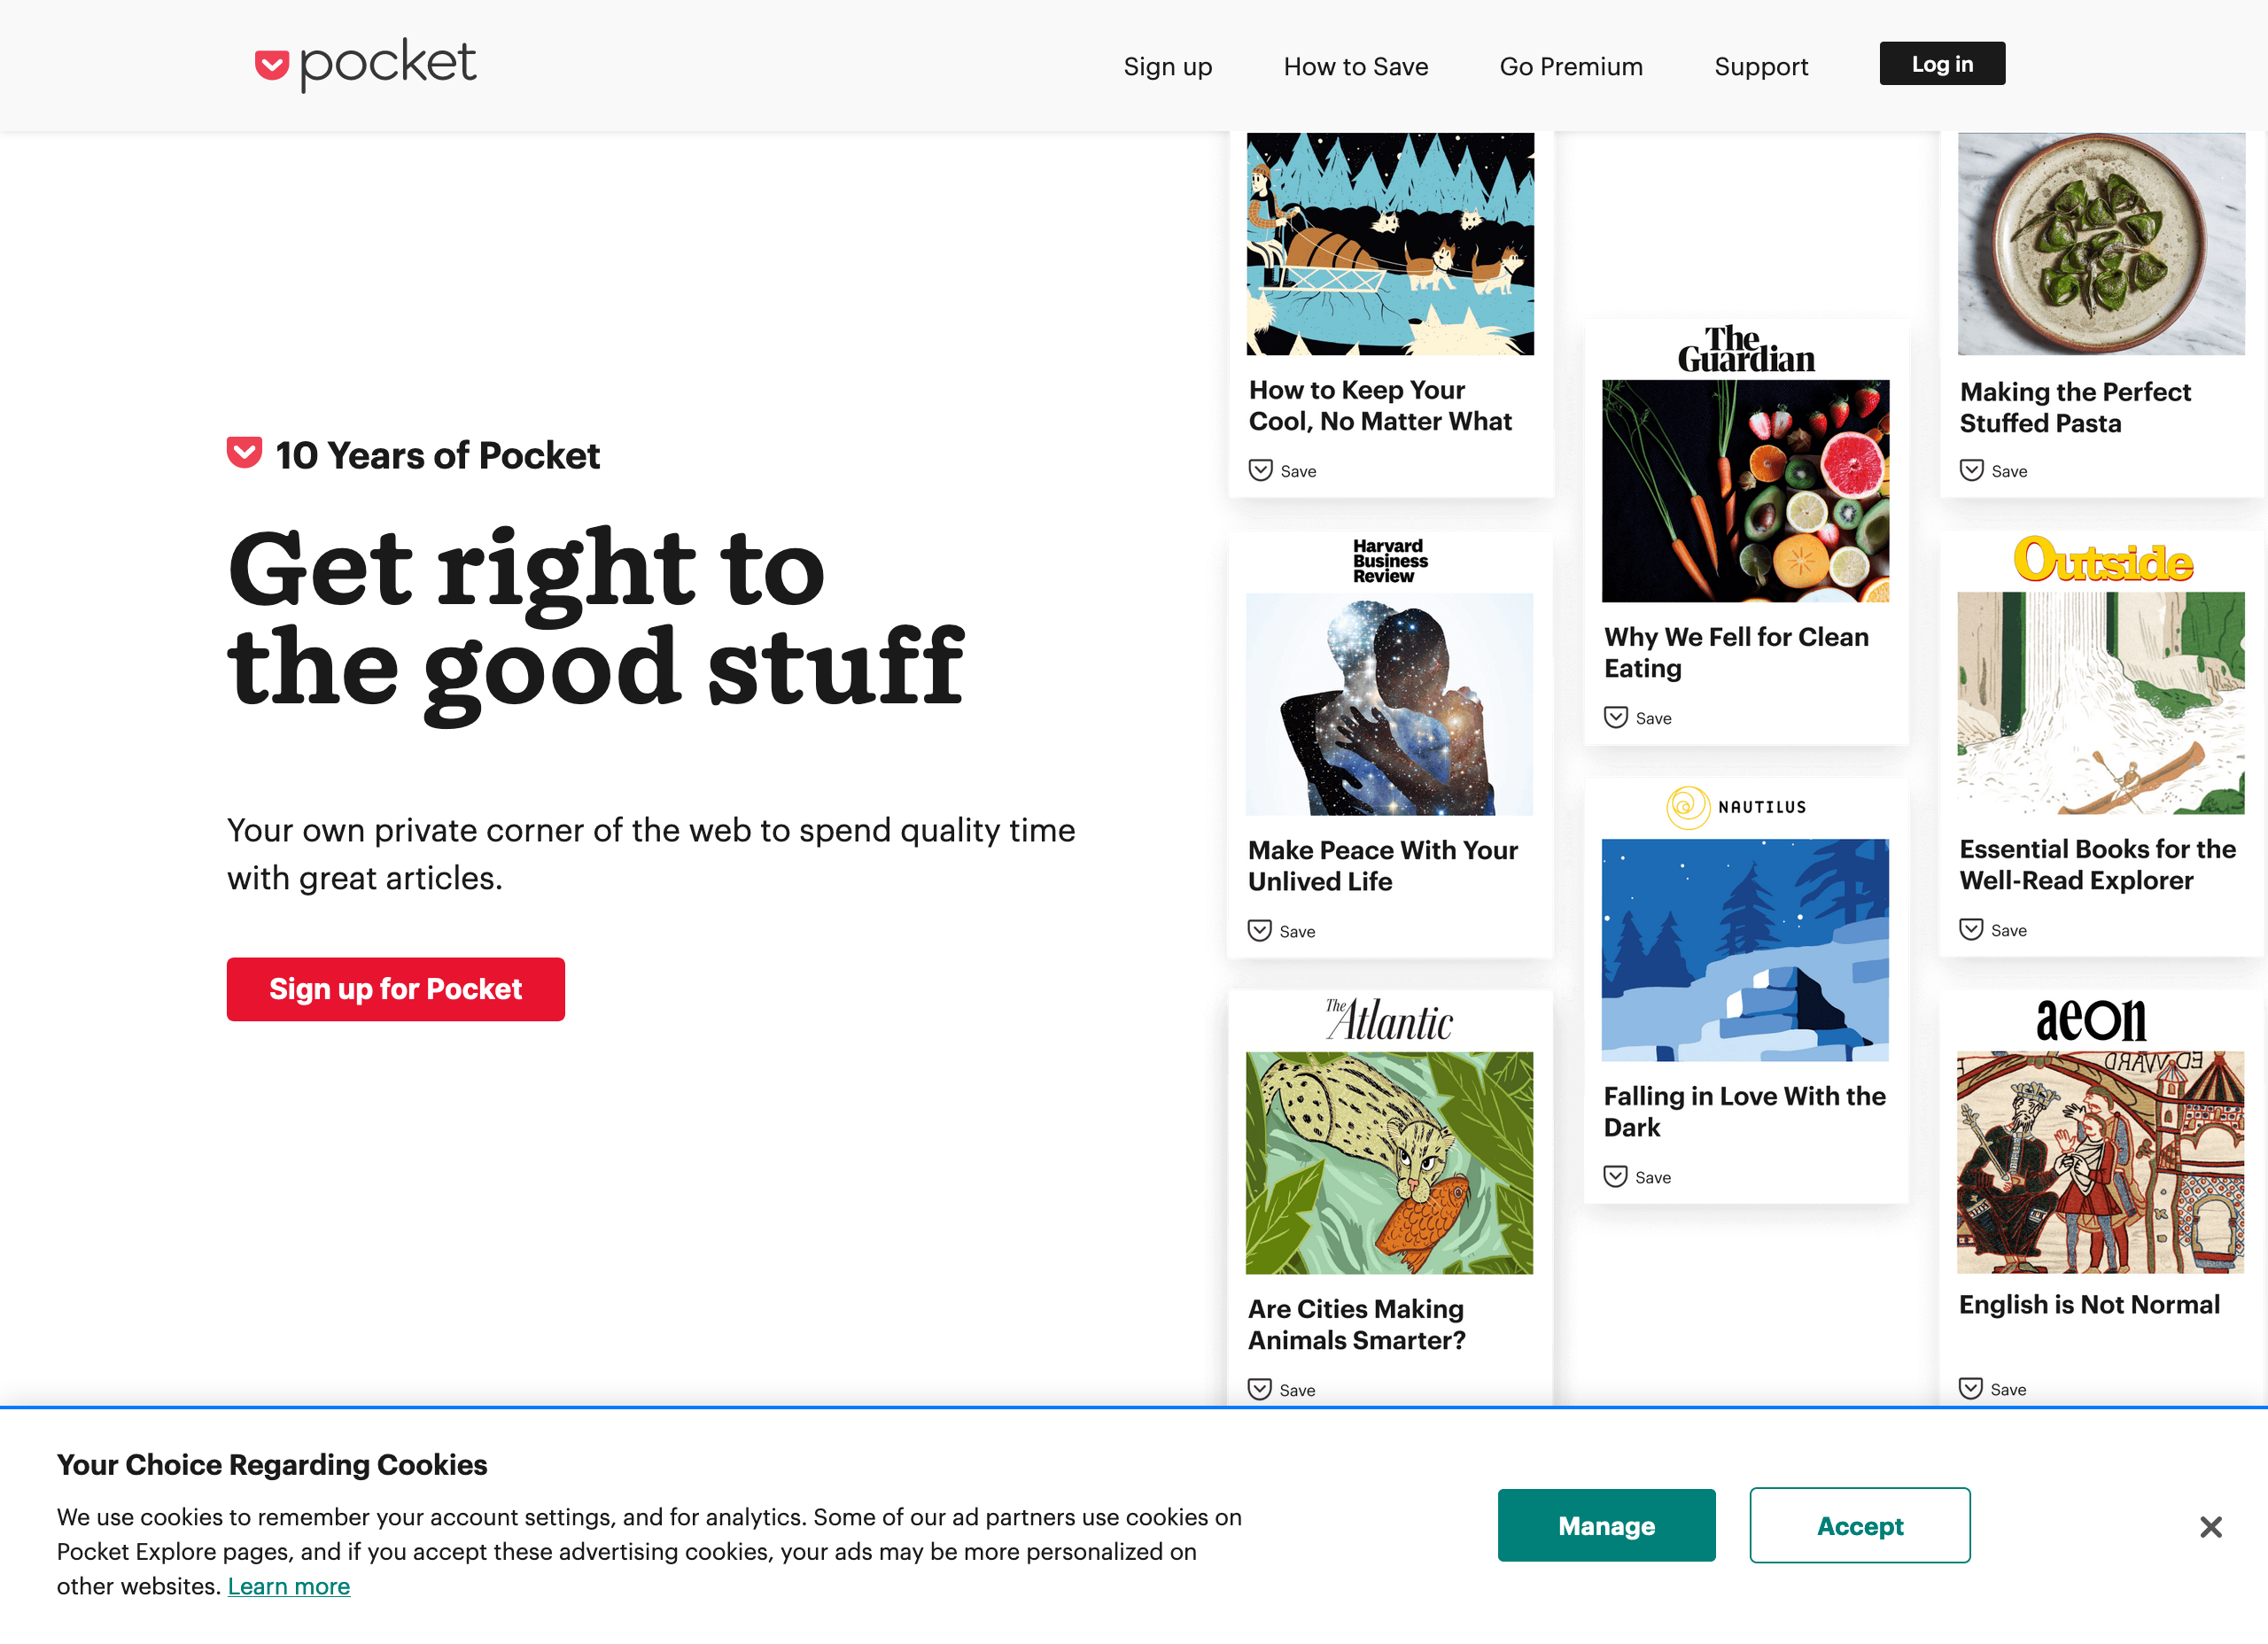Login: (1863, 26, 2046, 100)
